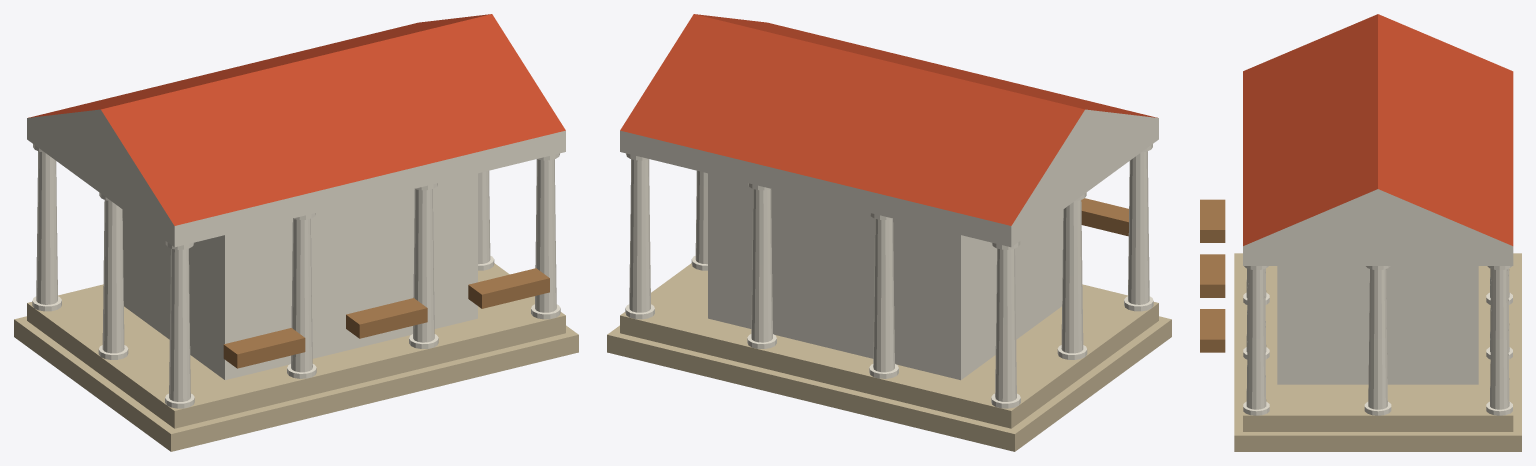
File: building_library.fbx
The picture shows the model from 3 angles, left to right: view 1: azimuth 30°, elevation 25°; view 2: azimuth 150°, elevation 25°; view 3: azimuth 270°, elevation 25°; orthographic projection. The views are drawn at different scales.
Visible parts, largest first — view 1: building_library; view 2: building_library; view 3: building_library.
Boxes of the visible parts, x1=… form: building_library: x1=14, y1=14, x2=578, y2=451; building_library: x1=607, y1=14, x2=1171, y2=451; building_library: x1=1200, y1=14, x2=1521, y2=451.
Bounding box in the file's own units: 60 × 39.8 × 44.75.
